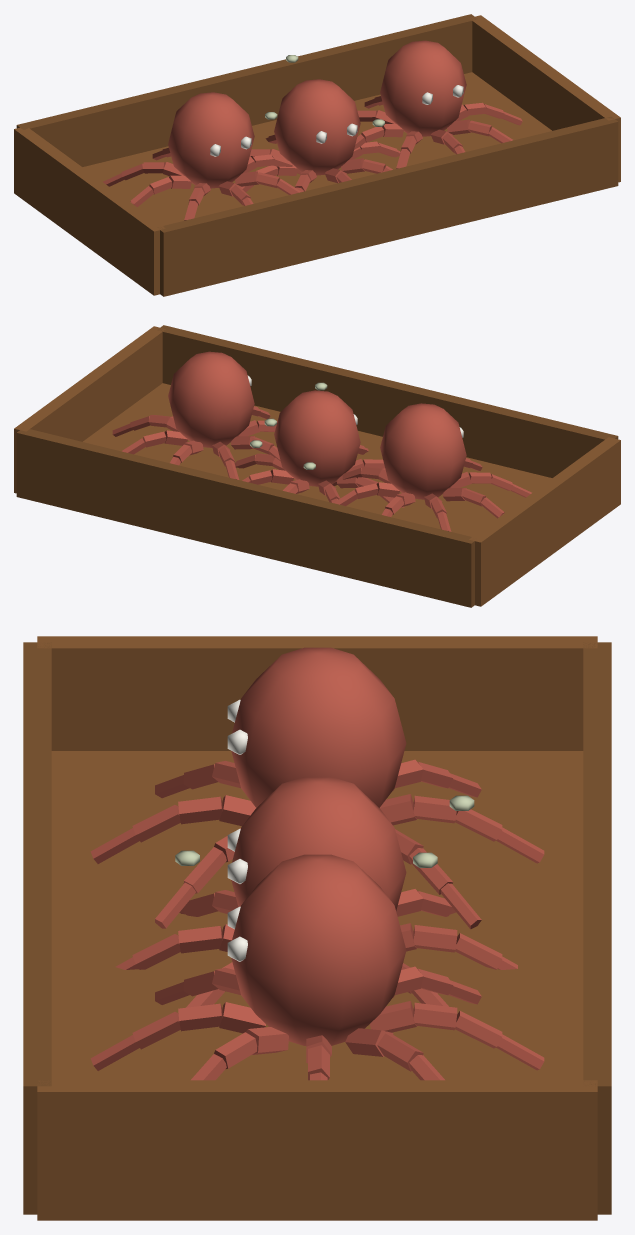
File: Sea_Octopus.fbx
The picture shows the model from 3 angles, top to bottom: view 1: azimuth 30°, elevation 25°; view 2: azimuth 150°, elevation 25°; view 3: azimuth 270°, elevation 25°; orthographic projection. The views are drawn at different scales.
Visible parts, largest first — view 1: Sea_Octopus__Stack, Sea_Octopus; view 2: Sea_Octopus__Stack, Sea_Octopus; view 3: Sea_Octopus__Stack, Sea_Octopus, Sea_Octopus__Rotten.
Part boxes in pixels (<box>): Sea_Octopus__Stack: <box>14,14,620,296</box>; Sea_Octopus: <box>240,79,400,192</box>; Sea_Octopus__Stack: <box>14,325,620,607</box>; Sea_Octopus: <box>234,390,404,507</box>; Sea_Octopus__Stack: <box>23,636,611,1220</box>; Sea_Octopus: <box>115,777,517,1007</box>; Sea_Octopus__Rotten: <box>175,795,474,867</box>.
Bounding box in the file's own units: 0.3044 × 0.0734 × 0.1661.
